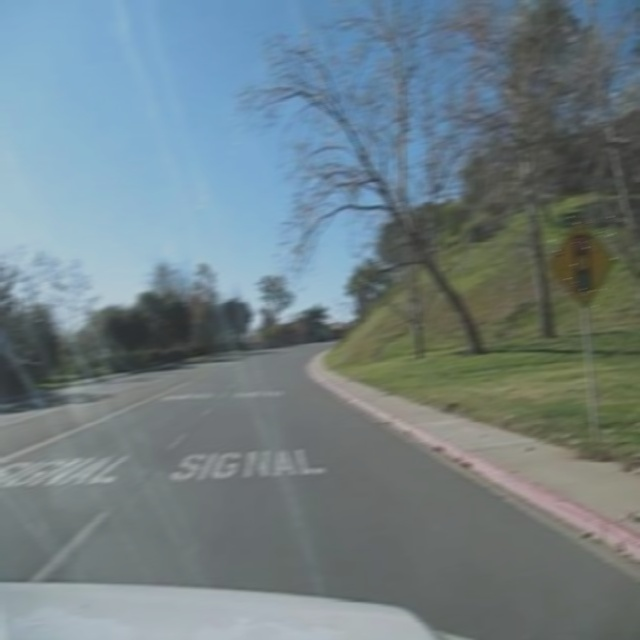signalAhead: (548, 215, 615, 308)
